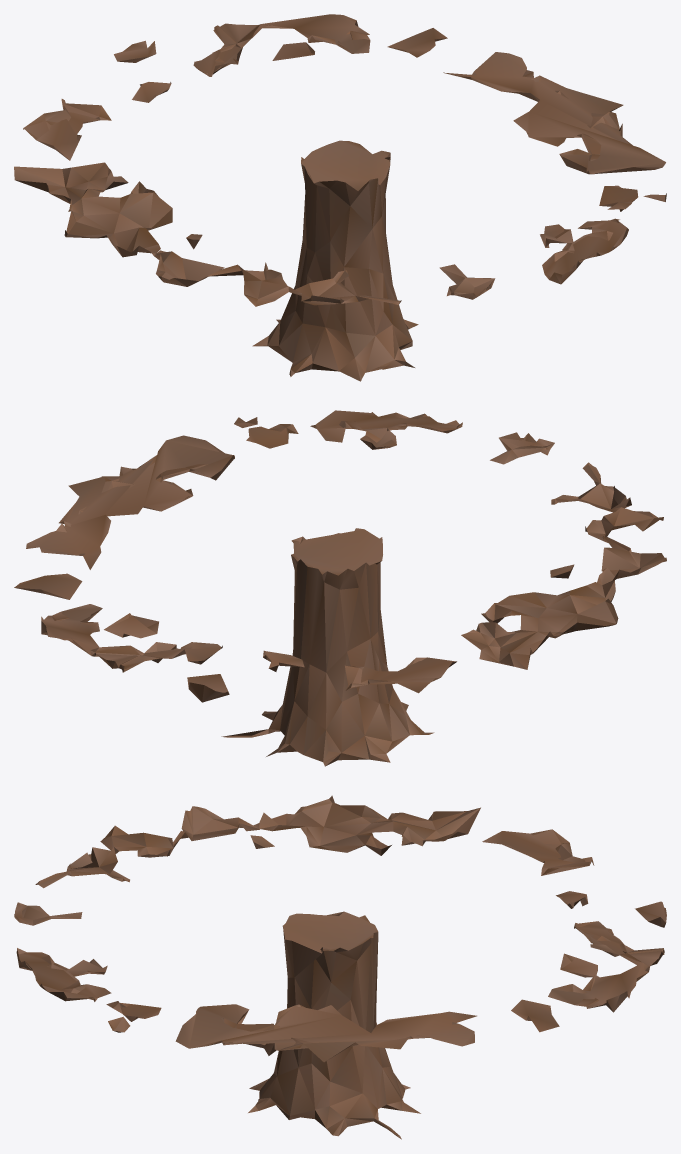
File: cedar_stump.glb
3 views of the same model, one above another, from view 1: azimuth 30°, elevation 25°; view 2: azimuth 150°, elevation 25°; view 3: azimuth 270°, elevation 25° (orthographic). The views are drawn at different scales.
Parts seen in each view (by area): view 1: Stump; view 2: Stump; view 3: Stump.
Boxes of the visible parts, <box> form: Stump: <box>14,14,666,381</box>; Stump: <box>14,410,666,766</box>; Stump: <box>14,795,666,1139</box>.
Bounding box in the file's own units: 2.25 × 0.7146 × 2.39.
